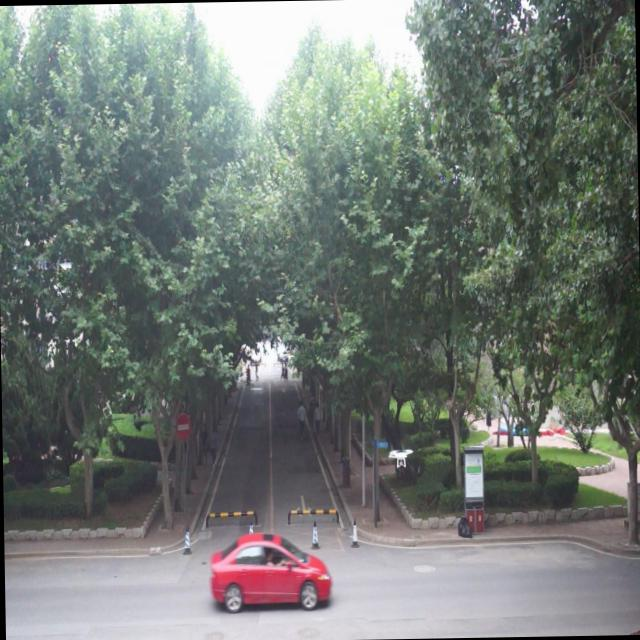drone: (387, 442, 416, 472)
